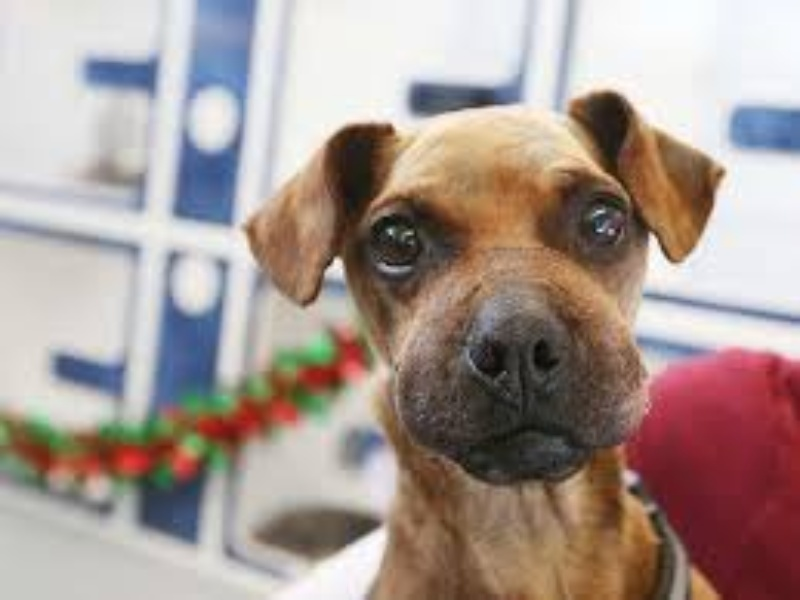dog: (243, 85, 736, 600)
